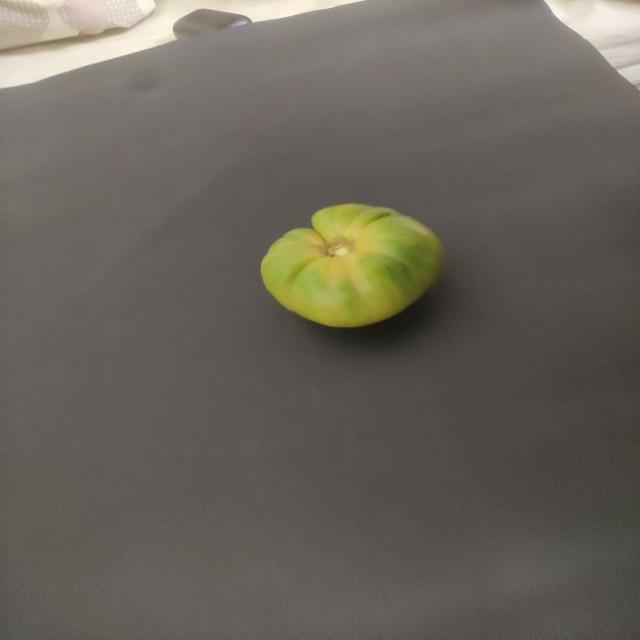yesil: (245, 195, 463, 339)
